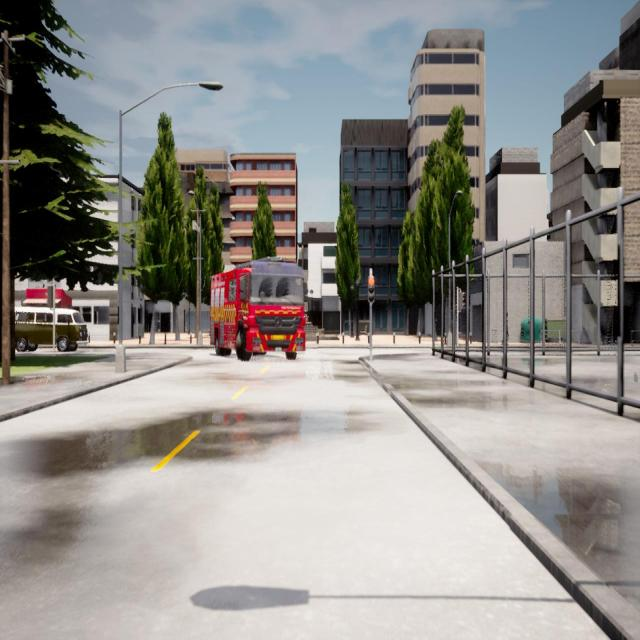Vehicle: (211, 260, 305, 358), (13, 307, 87, 351)
traffic_light: (368, 278, 374, 300), (459, 293, 466, 311), (48, 285, 52, 308)
